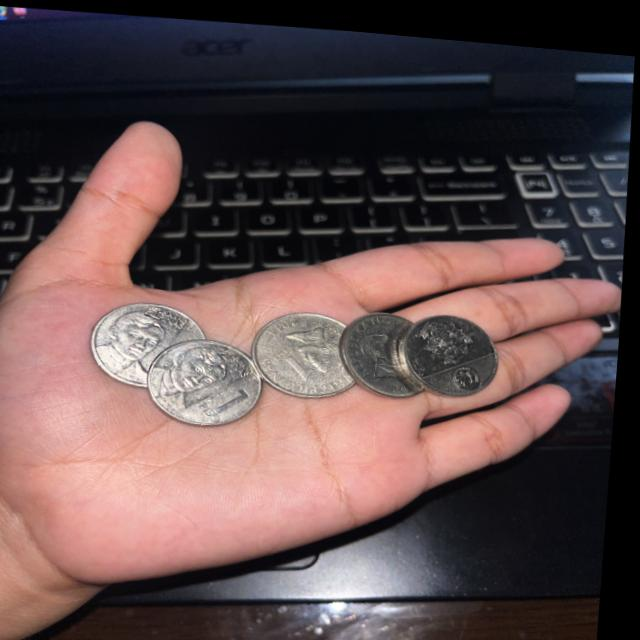1_New_Back: (409, 305, 492, 361)
1_New_Front: (197, 379, 262, 422)
1_Old_Front: (270, 335, 323, 379)
